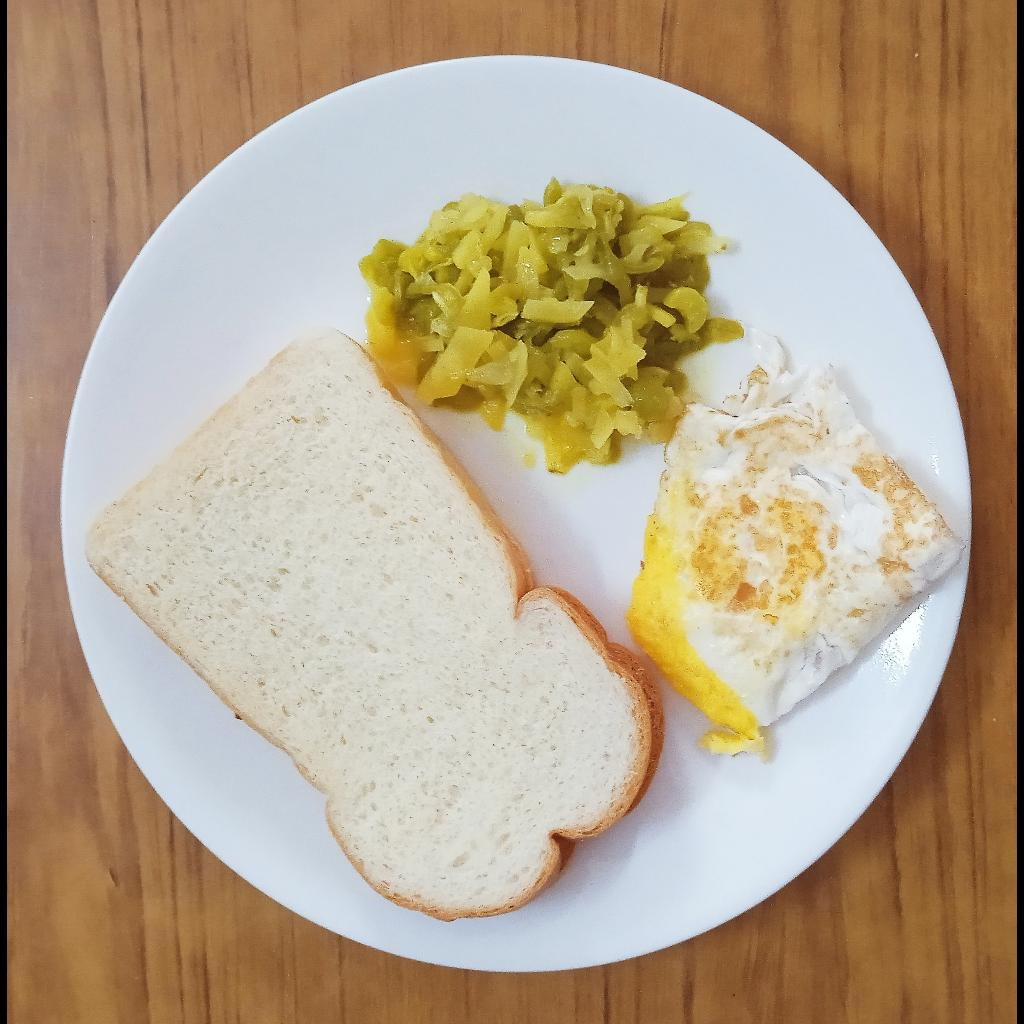bread: (85, 330, 667, 924)
egg-poached: (630, 331, 966, 757)
vegetable: (355, 179, 741, 475)
